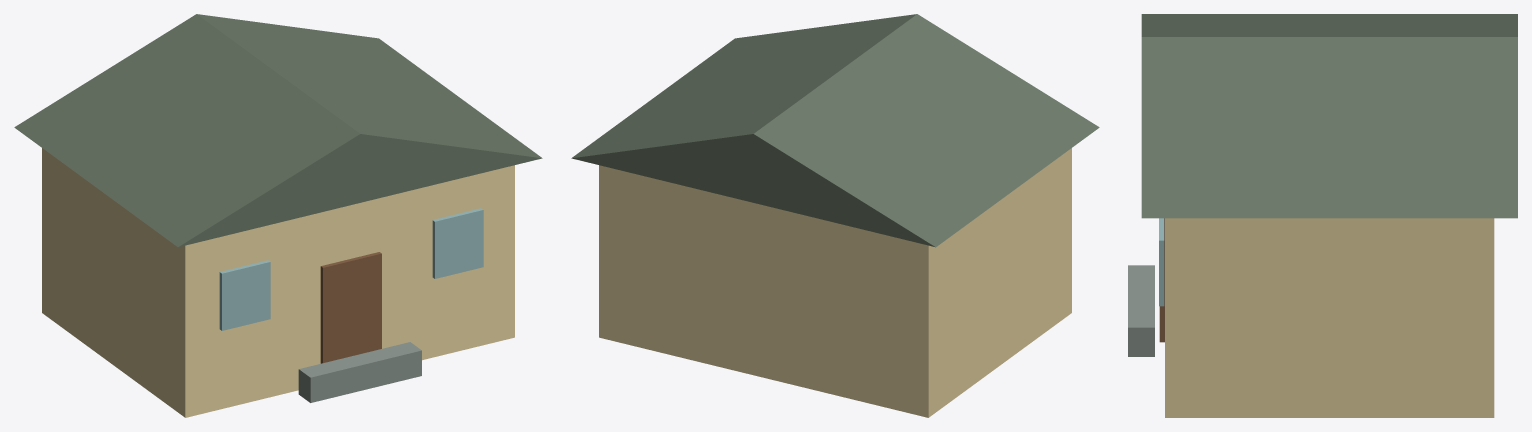
Rendered from bld_library.glb.
3 views of the same model, side by side, from view 1: azimuth 30°, elevation 25°; view 2: azimuth 150°, elevation 25°; view 3: azimuth 270°, elevation 25° (orthographic). The views are drawn at different scales.
Parts seen in each view (by area): view 1: bld_library; view 2: bld_library; view 3: bld_library.
Part boxes in pixels (bbox=[...]): bld_library: bbox=[14, 14, 542, 417]; bld_library: bbox=[571, 14, 1099, 417]; bld_library: bbox=[1128, 14, 1517, 417].
Size of the model in its own units: 3.6 by 2.37 by 2.9.
1 material, 1 textured.
